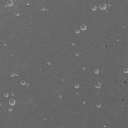corrosion: (98, 3, 110, 12), (79, 22, 87, 33), (93, 66, 101, 75), (93, 81, 102, 89), (8, 98, 16, 106), (10, 71, 18, 79), (73, 82, 80, 90), (3, 91, 10, 99), (95, 102, 102, 109), (6, 1, 14, 7), (20, 79, 26, 86), (123, 68, 128, 75), (46, 60, 51, 66), (75, 52, 80, 57)
